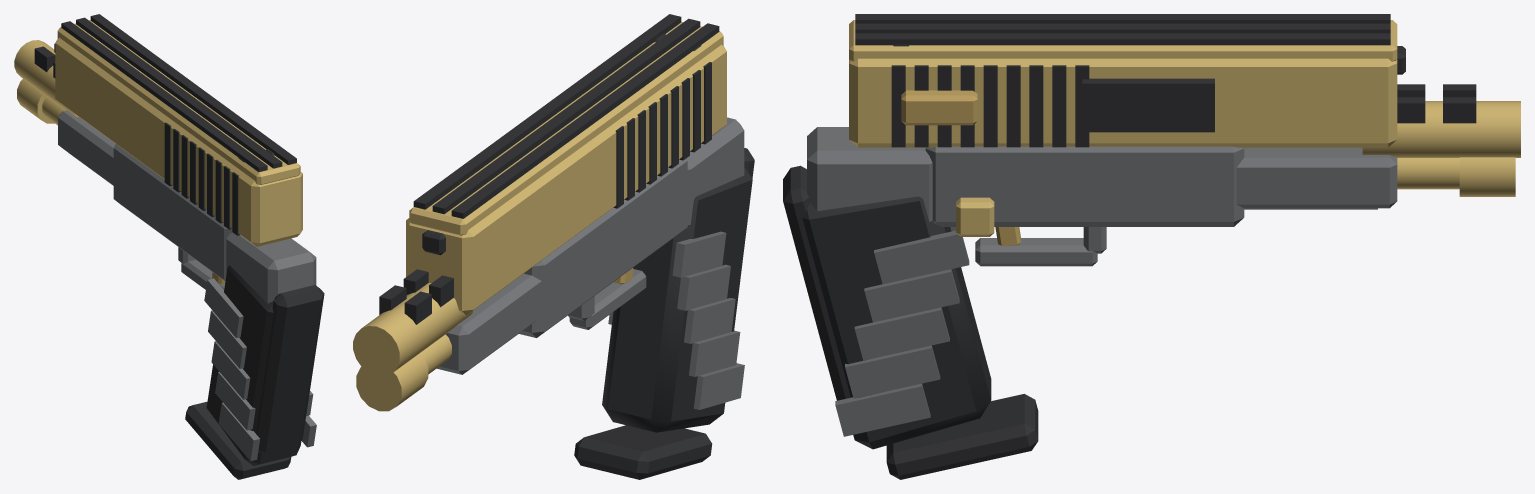
Rendered from deagle.glb.
The picture shows the model from 3 angles, left to right: view 1: azimuth 30°, elevation 25°; view 2: azimuth 150°, elevation 25°; view 3: azimuth 270°, elevation 25°; orthographic projection. The views are drawn at different scales.
Visible parts, largest first — view 1: DEAGLE_Polymer, DEAGLE_Gold, DEAGLE_Tungsten; view 2: DEAGLE_Polymer, DEAGLE_Gold, DEAGLE_Tungsten; view 3: DEAGLE_Polymer, DEAGLE_Tungsten, DEAGLE_Gold, DEAGLE_Brass.
Boxes of the visible parts, <box> form: DEAGLE_Polymer: <box>34,14,324,479</box>; DEAGLE_Gold: <box>14,20,302,246</box>; DEAGLE_Tungsten: <box>58,110,316,461</box>; DEAGLE_Polymer: <box>379,14,754,479</box>; DEAGLE_Gold: <box>353,21,726,411</box>; DEAGLE_Tungsten: <box>437,117,744,409</box>; DEAGLE_Polymer: <box>783,14,1476,479</box>; DEAGLE_Tungsten: <box>807,127,1397,436</box>; DEAGLE_Gold: <box>849,20,1520,236</box>; DEAGLE_Brass: <box>901,90,1020,246</box>.
Size of the model in its own units: 0.0419 by 0.1897 by 0.2894.
